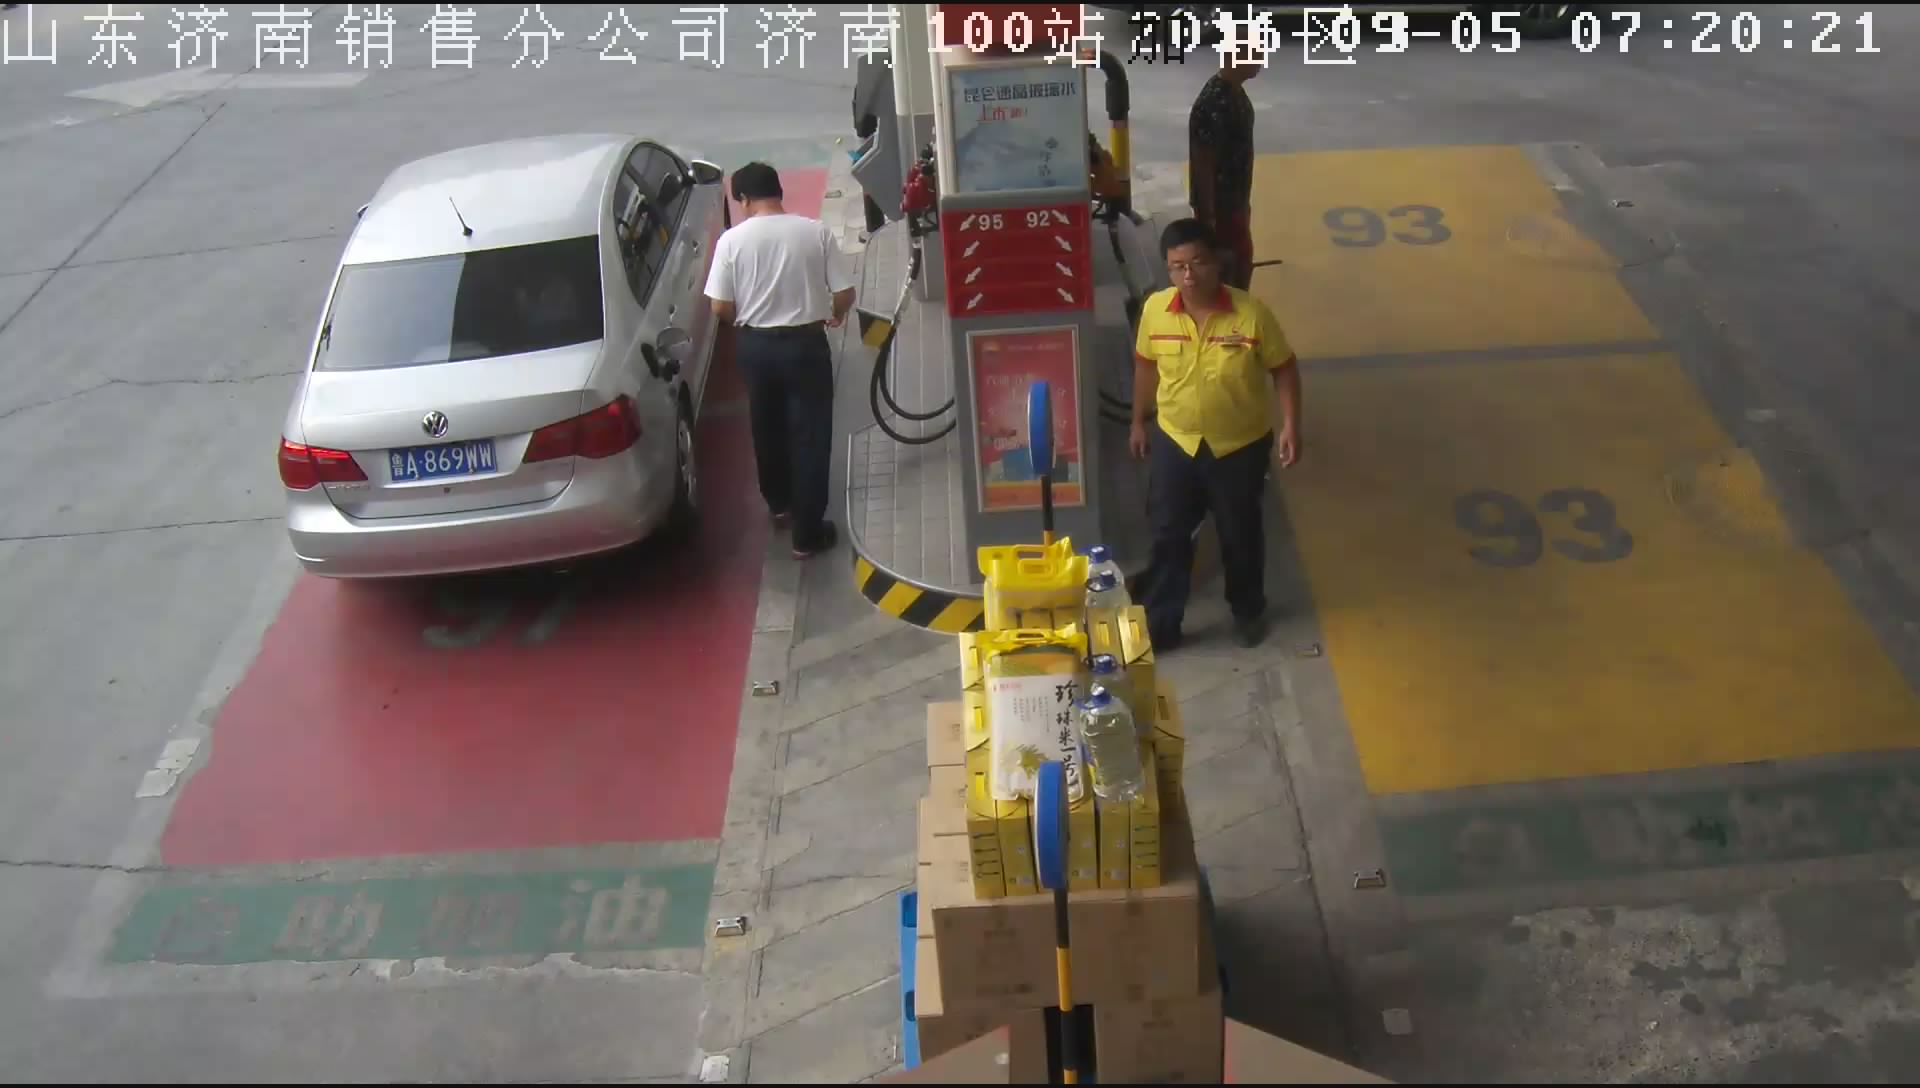blue: (388, 437, 501, 488)
